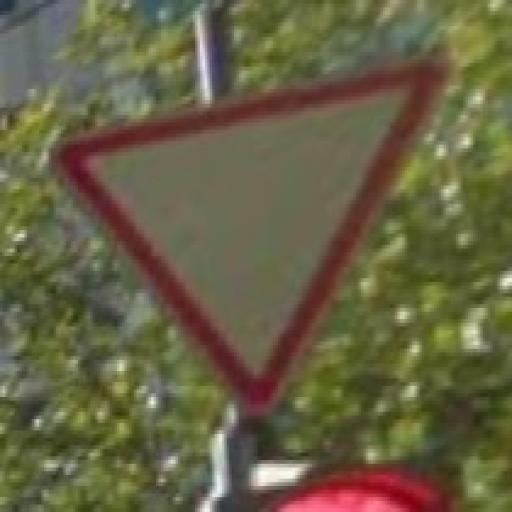traffic_sign: (50, 53, 452, 416)
